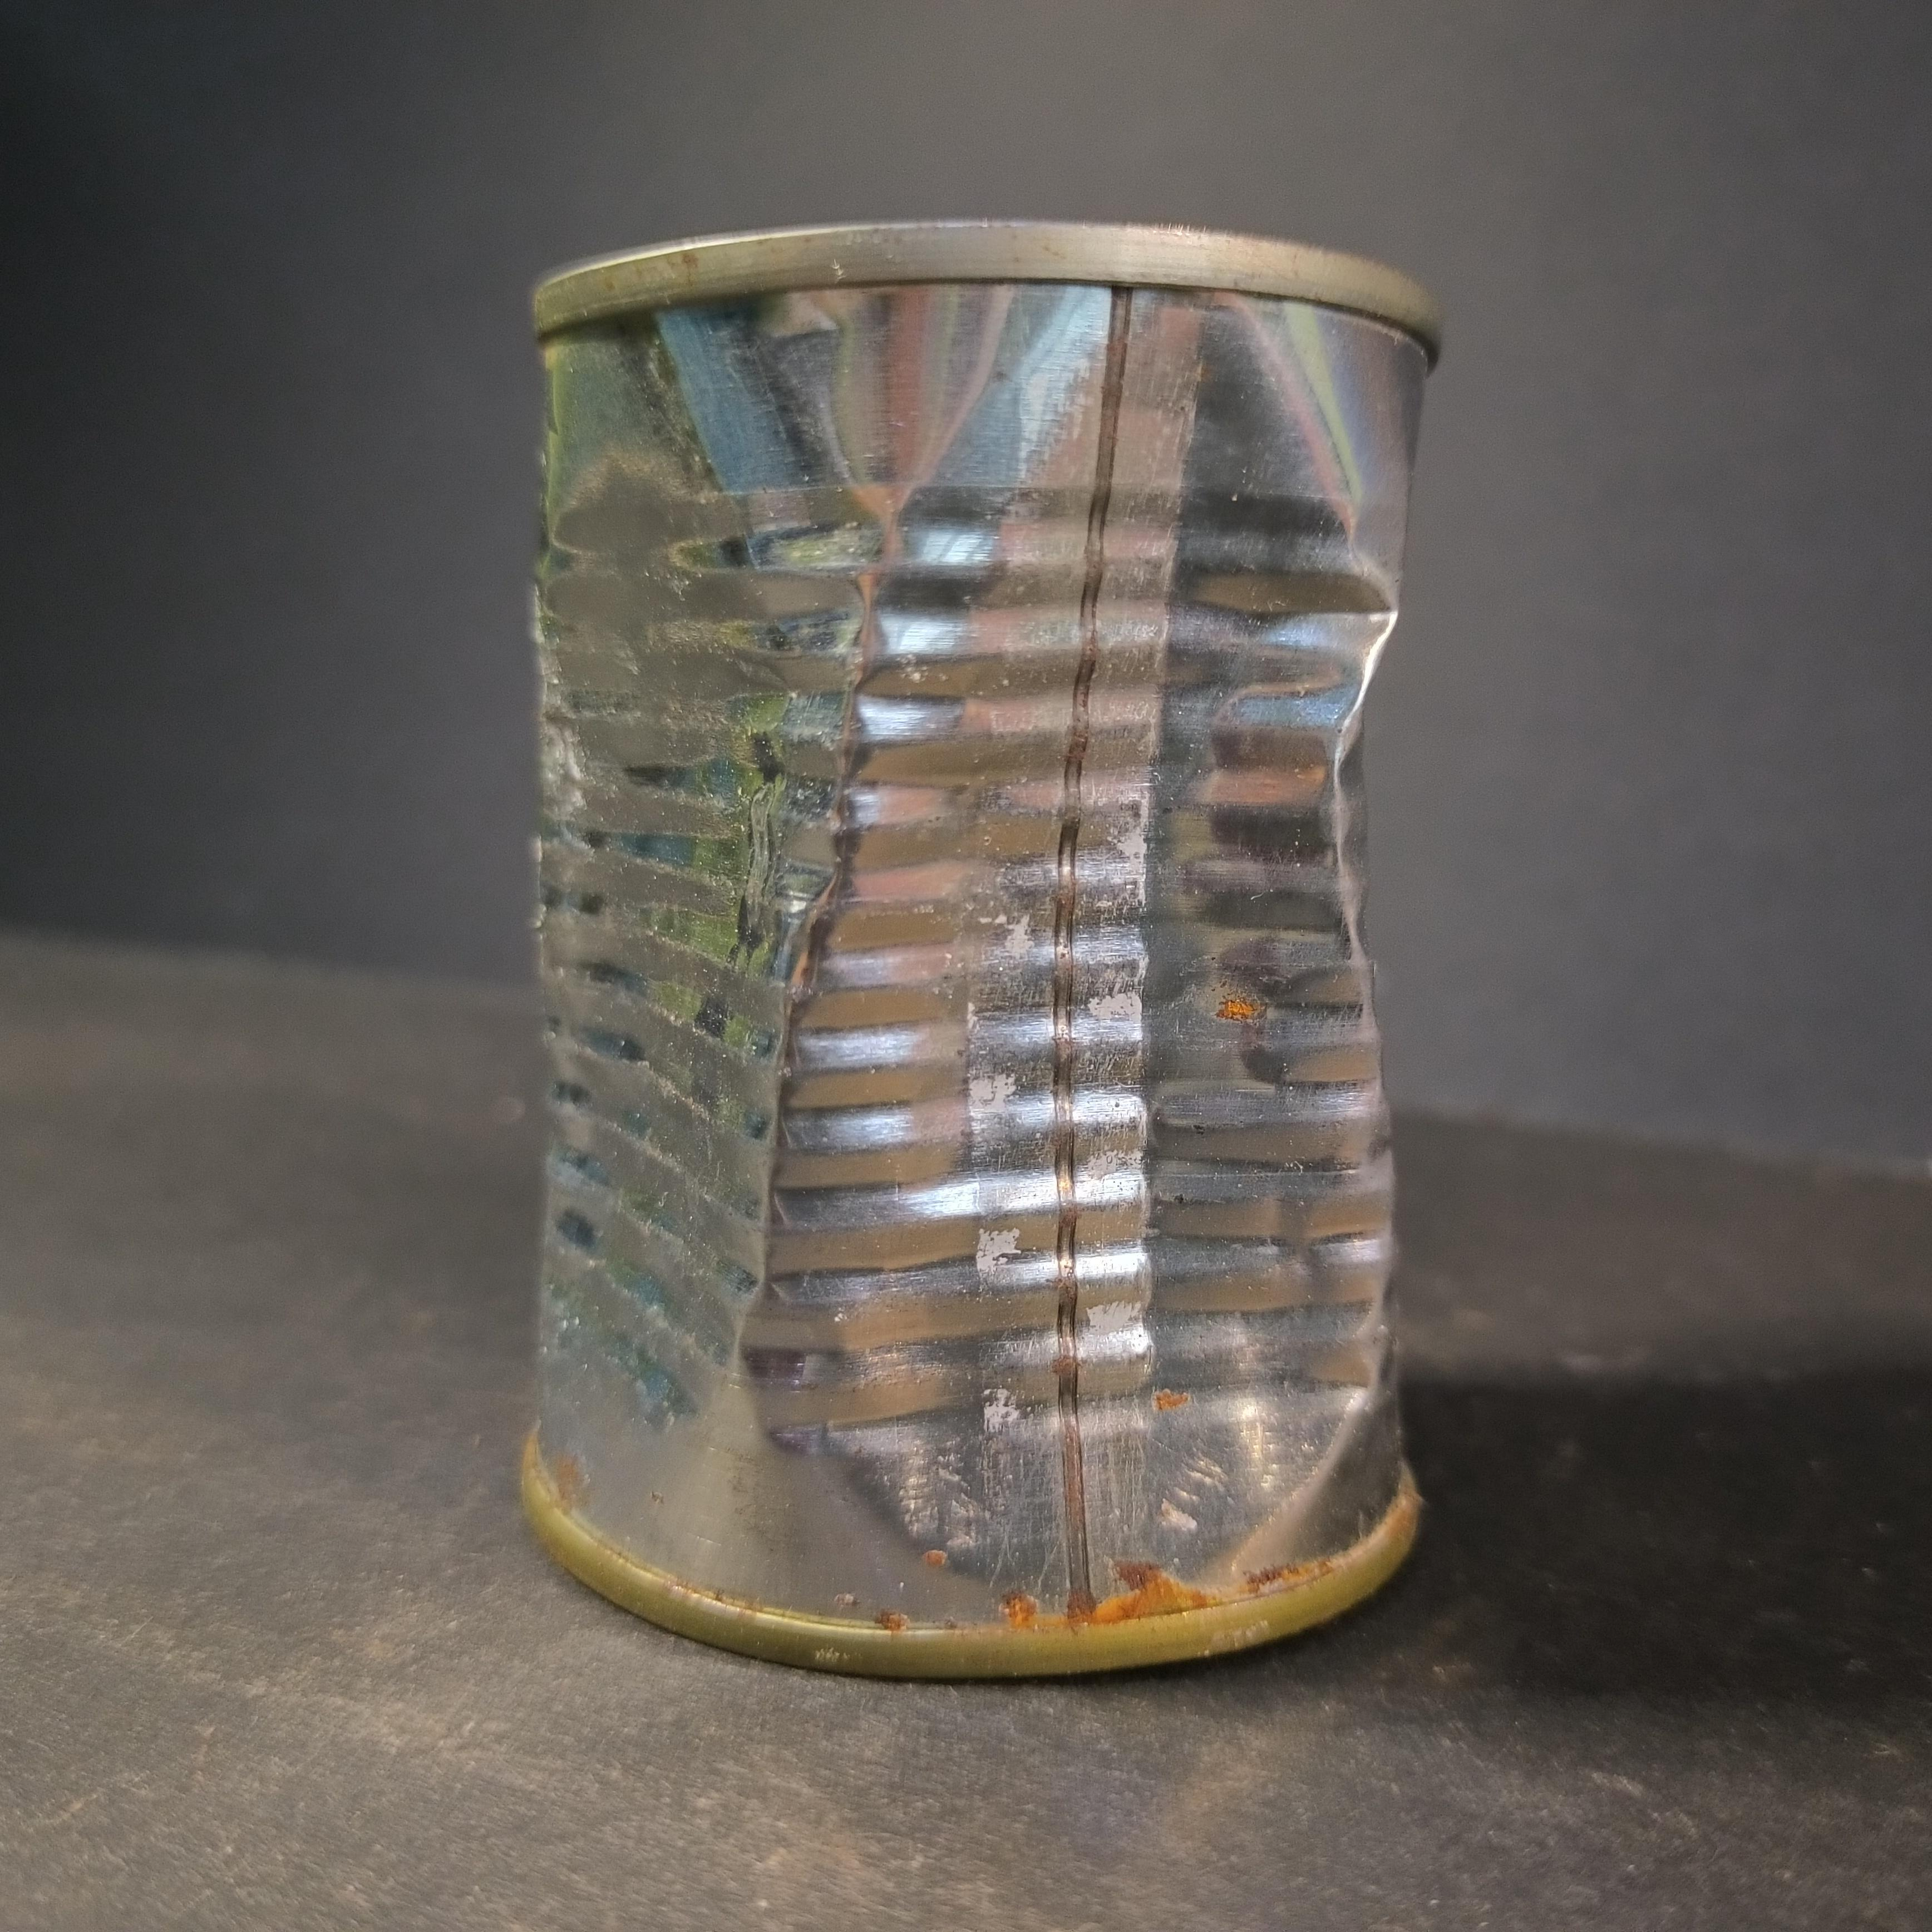Dented: (501, 209, 1452, 1678)
